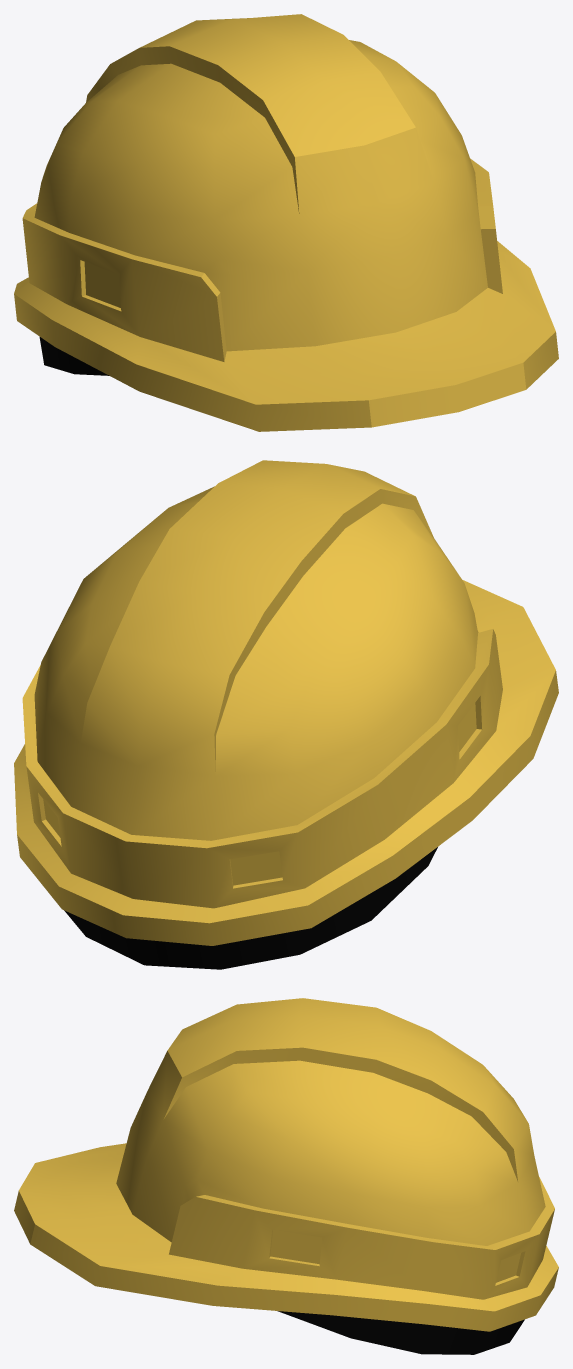
The model's file is NM_Helmet.fbx.
3 views of the same model, one above another, from view 1: azimuth 30°, elevation 25°; view 2: azimuth 150°, elevation 25°; view 3: azimuth 270°, elevation 25° (orthographic). The views are drawn at different scales.
Visible parts, largest first — view 1: Helmet; view 2: Helmet; view 3: Helmet.
Boxes of the visible parts, bbox=[...] form: Helmet: bbox=[14, 14, 558, 431]; Helmet: bbox=[14, 460, 558, 969]; Helmet: bbox=[14, 998, 558, 1354].
Bounding box in the file's own units: 23.61 × 20.25 × 32.89.
